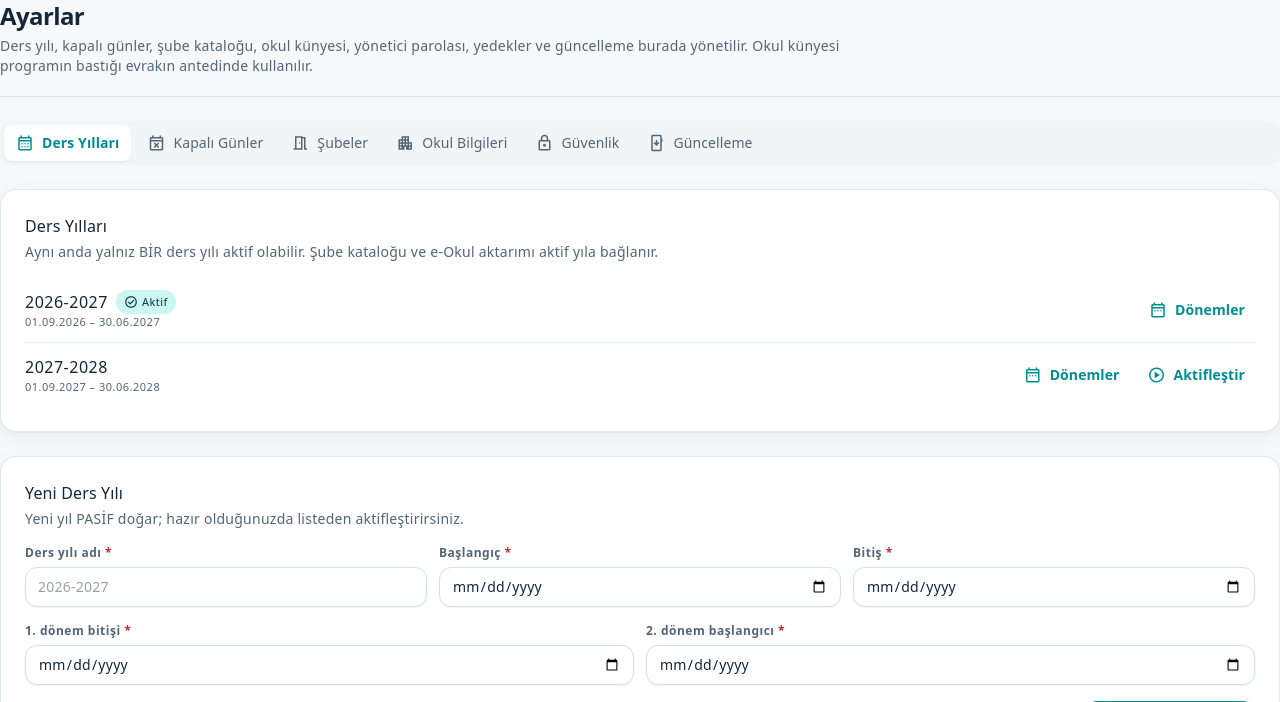
Test case: AyarlarPage — ders yılları › aktifleştirilen yılın iki takvim yılına tatiller eklenir; eksik dini bayram söylenir
What coordinates should you click on to do the following:
click the button "Aktifleştir"
I would click on:
 (1196, 375)
Its box is [1138,357,1255,393].
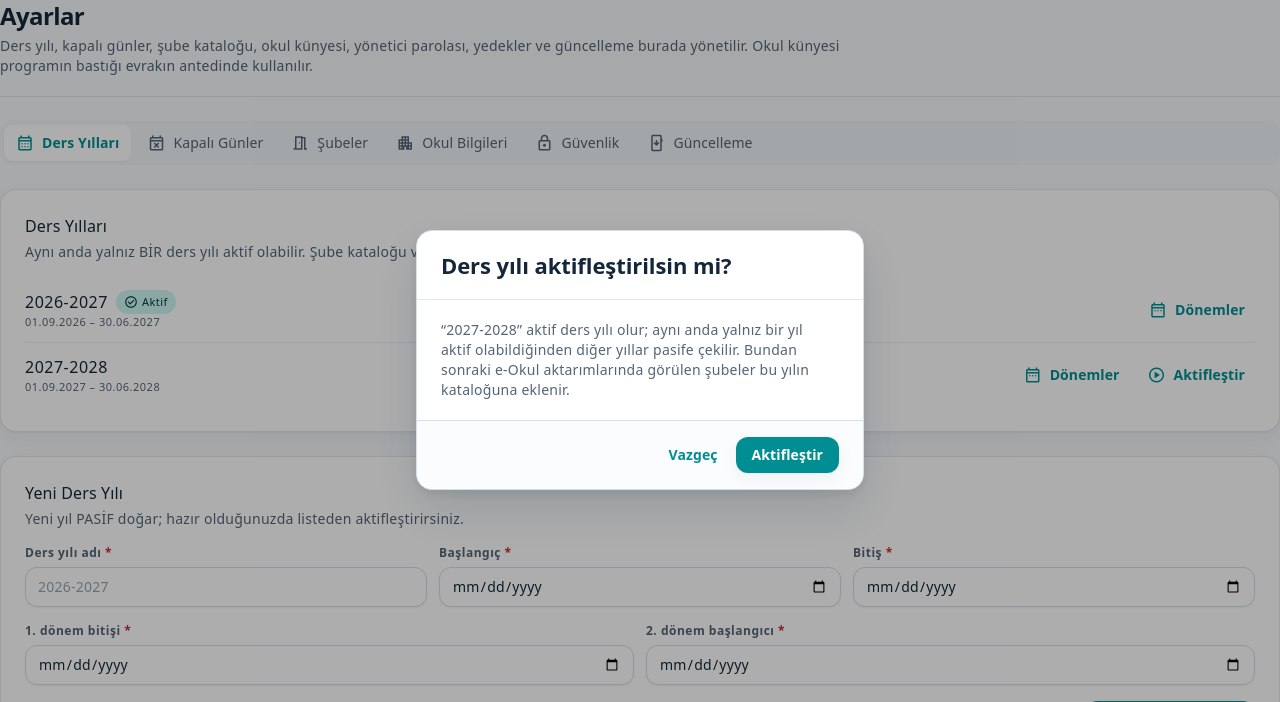
What coordinates should you click on to do the following:
click the button "Aktifleştir"
I would click on:
 (787, 455)
Its box is [736,437,839,473].
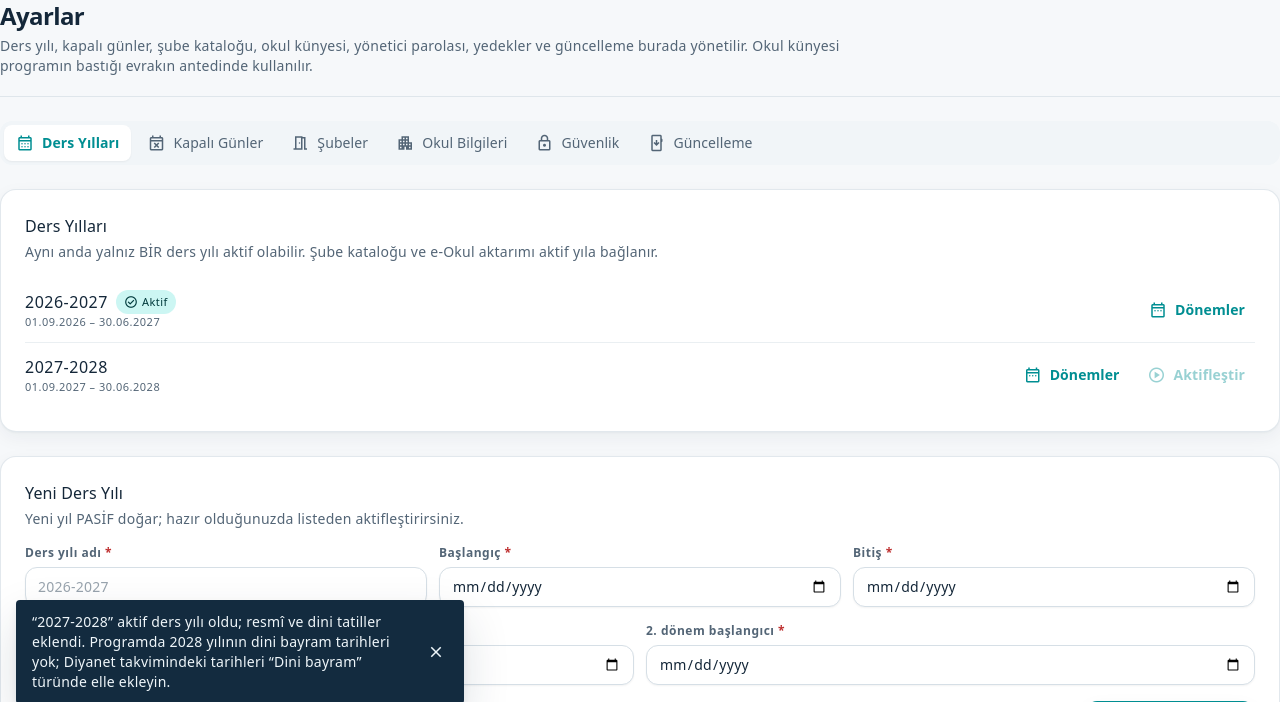
Now the text "2028 yılının dini bayram tarihleri yok" is shown, box [32,612,390,691]
